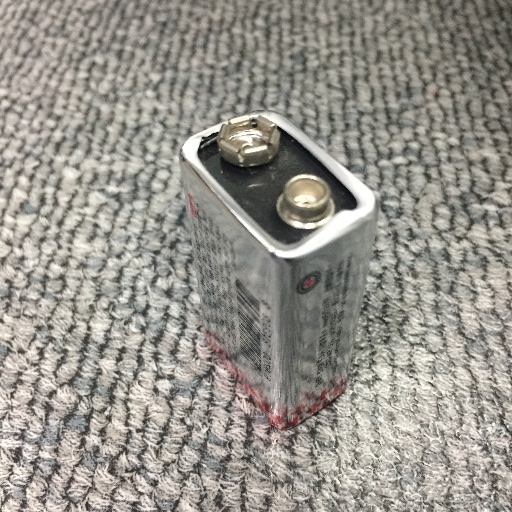Battery_3: (170, 96, 386, 437)
